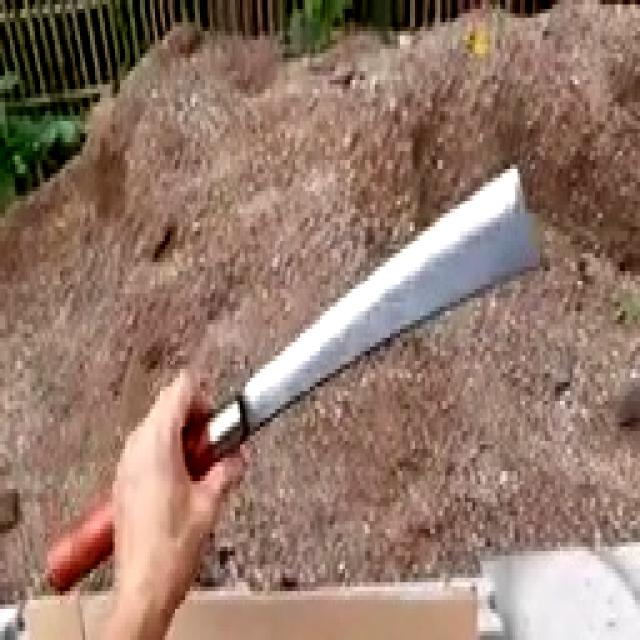eto: (50, 170, 542, 591)
